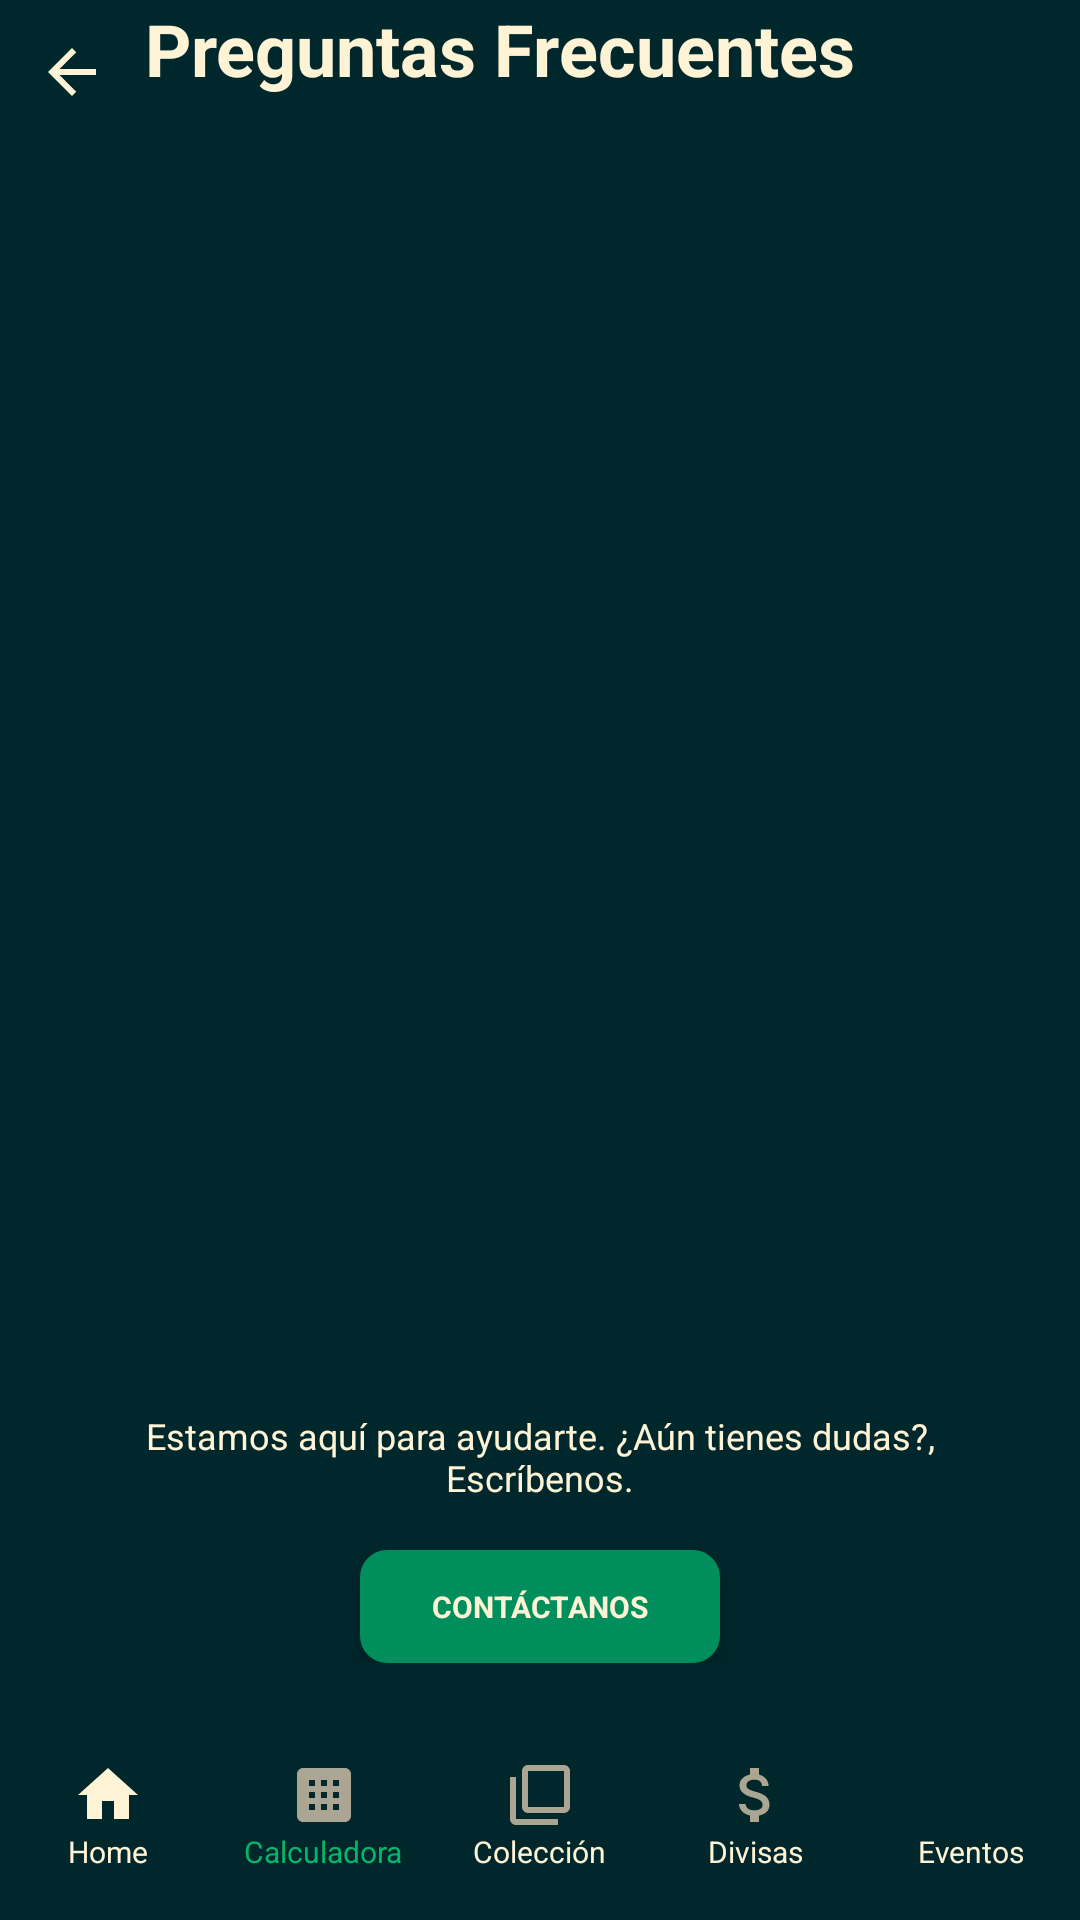

Where icons sit on this 1080px×1920px app screen, as detection(x1, y1, x2, y2):
Volver: detection(48, 48, 96, 96)
